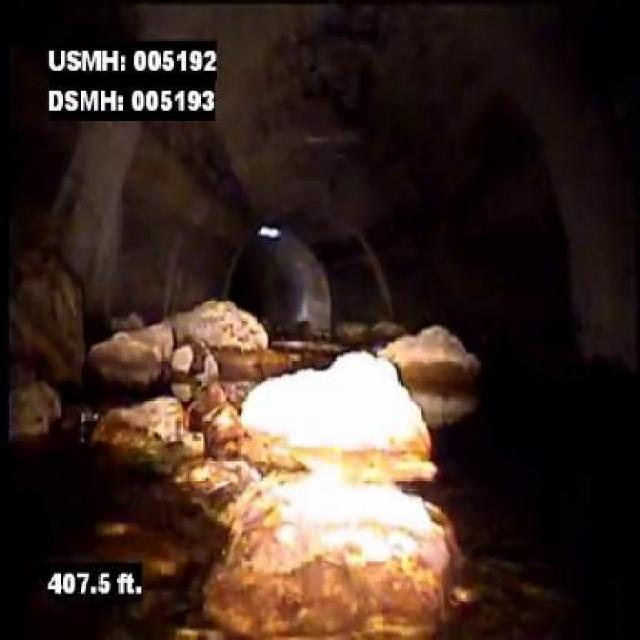Debris: (234, 326, 477, 639), (98, 300, 231, 520)
